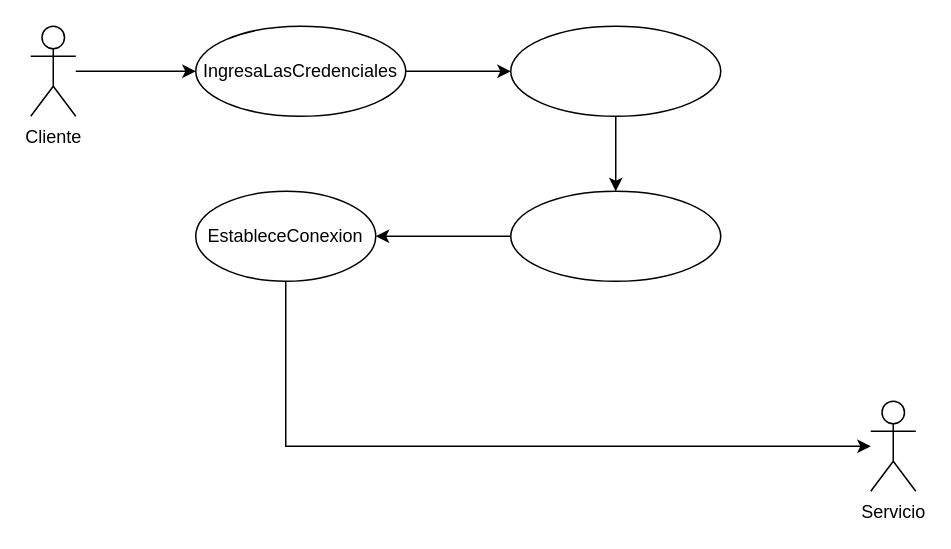
Image size: 951x549. Some labels were removed from this diagram. Each missing label, with the centre of its shape:
"SolicitaValidarCon2FA" belongs at point 615,235.
"ValidaLasCredenciales" belongs at point 615,70.
